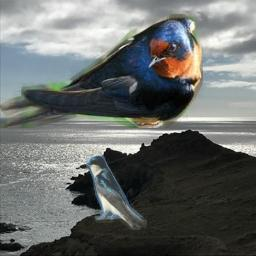Swallow: (0, 14, 203, 128), (86, 155, 147, 230)
